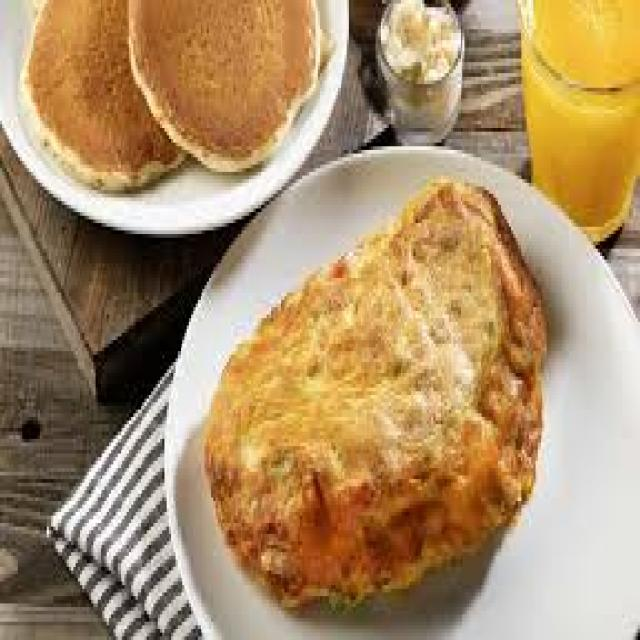Omelette: (207, 176, 553, 614)
Pancakes: (12, 1, 323, 178)
